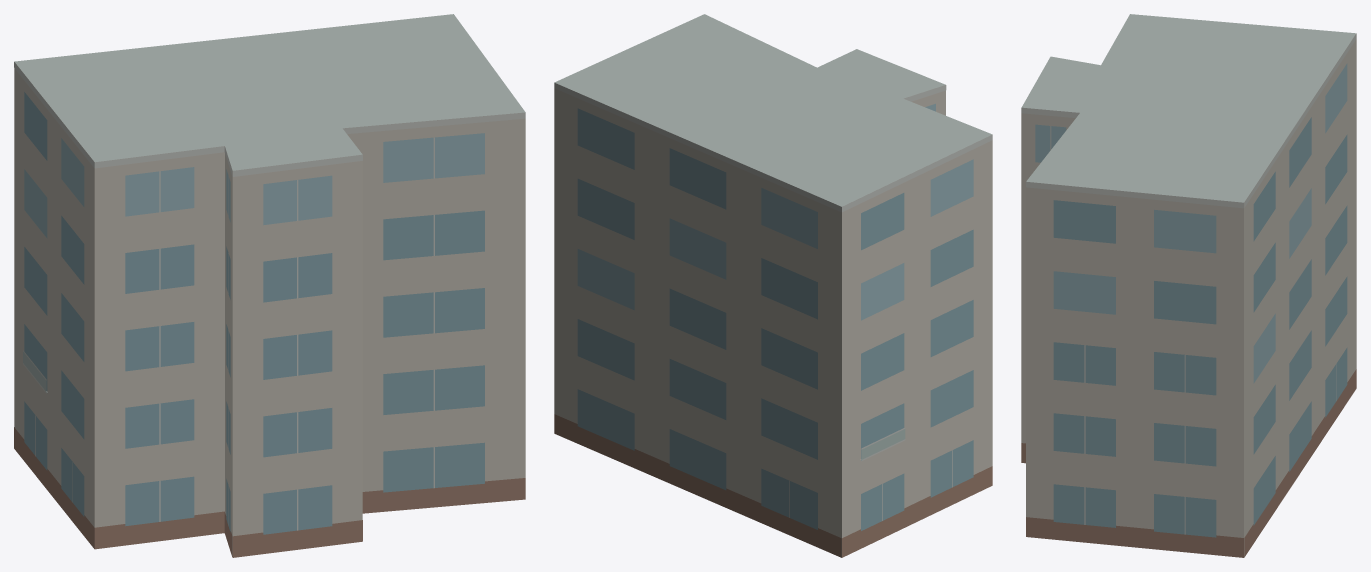
Rendered from survey-upis-33006370.glb.
The picture shows the model from 3 angles, left to right: view 1: azimuth 30°, elevation 25°; view 2: azimuth 150°, elevation 25°; view 3: azimuth 270°, elevation 25°; orthographic projection. The views are drawn at different scales.
Parts seen in each view (by area): view 1: survey-upis-33006370.tmp; view 2: survey-upis-33006370.tmp; view 3: survey-upis-33006370.tmp.
Part boxes in pixels (x1,y1,x2,y2): survey-upis-33006370.tmp: [14, 14, 525, 557]; survey-upis-33006370.tmp: [554, 14, 992, 557]; survey-upis-33006370.tmp: [1021, 14, 1356, 557].
Bounding box in the file's own units: 17.38 × 15.25 × 13.05.
